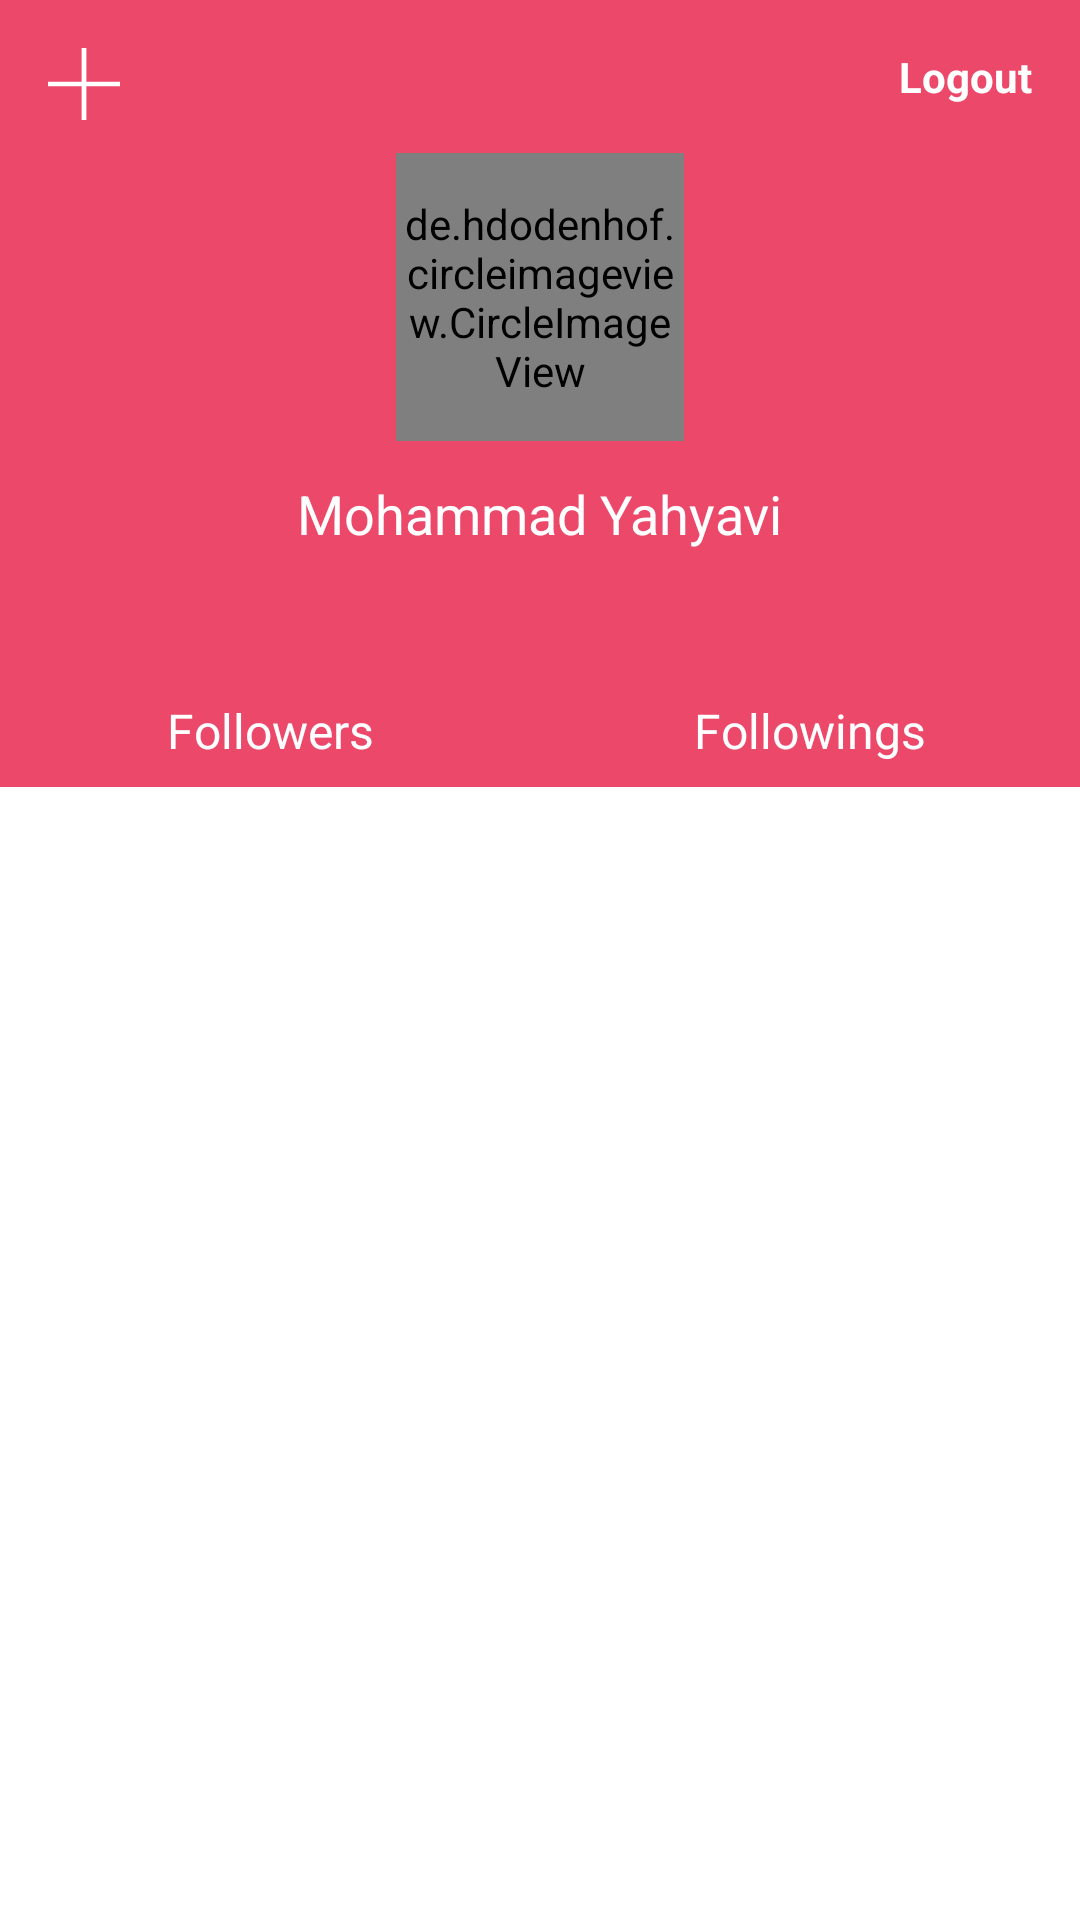

Icons on this 1080w x 1920h Android screen, each with its box as (x1, y1, x2, y2):
plus: (48, 48, 120, 120)
